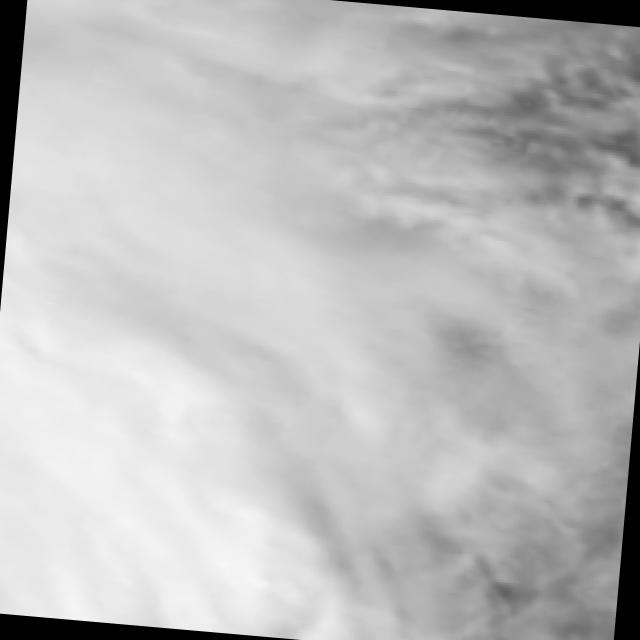CB: (0, 0, 325, 636), (0, 218, 409, 493)
